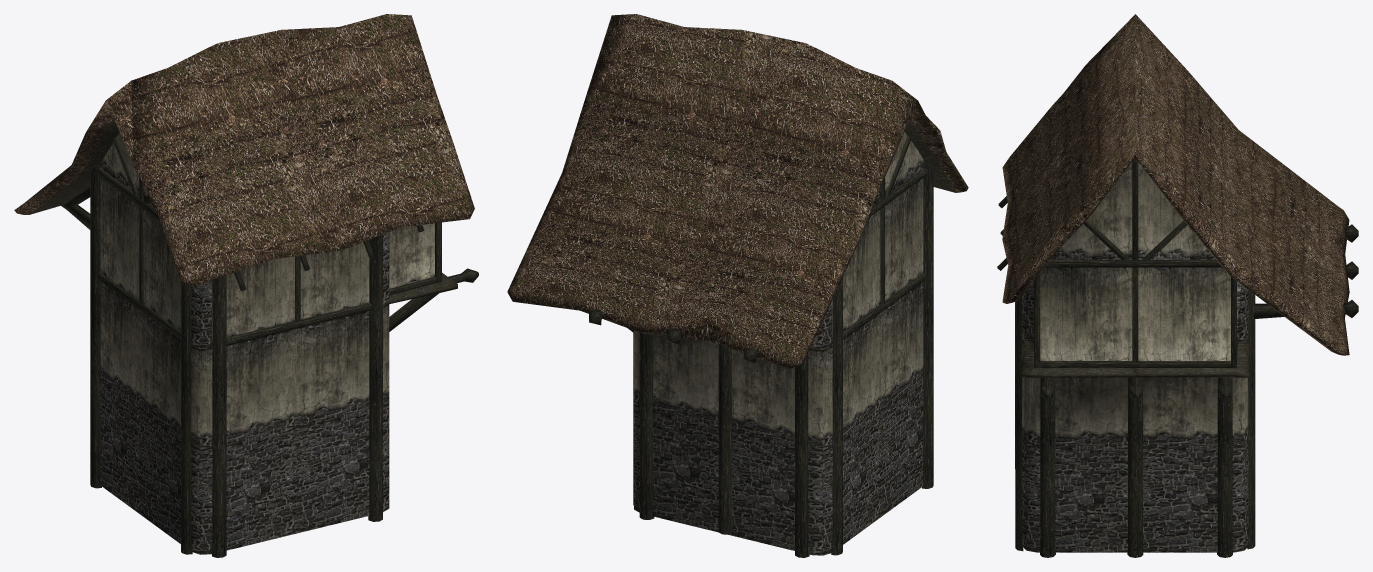
File: ex_common_house_tall_02.dae
3 views of the same model, side by side, from view 1: azimuth 30°, elevation 25°; view 2: azimuth 150°, elevation 25°; view 3: azimuth 270°, elevation 25° (orthographic).
Visible parts, largest first — view 1: nifid_6-matrix, nifid_21-matrix, nifid_1-matrix, nifid_16-matrix, nifid_31-matrix, nifid_11-matrix, nifid_26-matrix, nifid_41-matrix, nifid_36-matrix; view 2: nifid_6-matrix, nifid_21-matrix, nifid_1-matrix, nifid_16-matrix, nifid_31-matrix, nifid_36-matrix, nifid_41-matrix, nifid_11-matrix, nifid_26-matrix; view 3: nifid_6-matrix, nifid_31-matrix, nifid_16-matrix, nifid_21-matrix, nifid_1-matrix, nifid_11-matrix, nifid_26-matrix, nifid_36-matrix, nifid_41-matrix.
Part boxes in pixels (x1,y1,x2,y2): nifid_6-matrix: [14, 14, 474, 286]; nifid_21-matrix: [100, 383, 389, 554]; nifid_1-matrix: [100, 281, 369, 450]; nifid_16-matrix: [61, 137, 478, 557]; nifid_31-matrix: [100, 132, 434, 348]; nifid_11-matrix: [29, 118, 457, 304]; nifid_26-matrix: [191, 232, 389, 349]; nifid_41-matrix: [191, 304, 389, 451]; nifid_36-matrix: [200, 348, 211, 451]; nifid_6-matrix: [507, 14, 968, 368]; nifid_21-matrix: [634, 383, 923, 555]; nifid_1-matrix: [653, 282, 923, 451]; nifid_16-matrix: [589, 136, 933, 557]; nifid_31-matrix: [810, 132, 924, 348]; nifid_36-matrix: [634, 330, 832, 452]; nifid_41-matrix: [811, 349, 822, 452]; nifid_11-matrix: [904, 118, 955, 192]; nifid_26-matrix: [811, 301, 832, 349]; nifid_6-matrix: [1002, 14, 1349, 355]; nifid_31-matrix: [1040, 162, 1230, 360]; nifid_16-matrix: [997, 158, 1358, 557]; nifid_21-matrix: [1022, 444, 1248, 552]; nifid_1-matrix: [1035, 377, 1235, 449]; nifid_11-matrix: [1022, 339, 1249, 377]; nifid_26-matrix: [1022, 281, 1248, 342]; nifid_36-matrix: [1026, 342, 1248, 449]; nifid_41-matrix: [1022, 341, 1244, 449].
Size of the model in its own units: 855 by 815 by 1143.
Materials: 9 (9 with a texture image).
